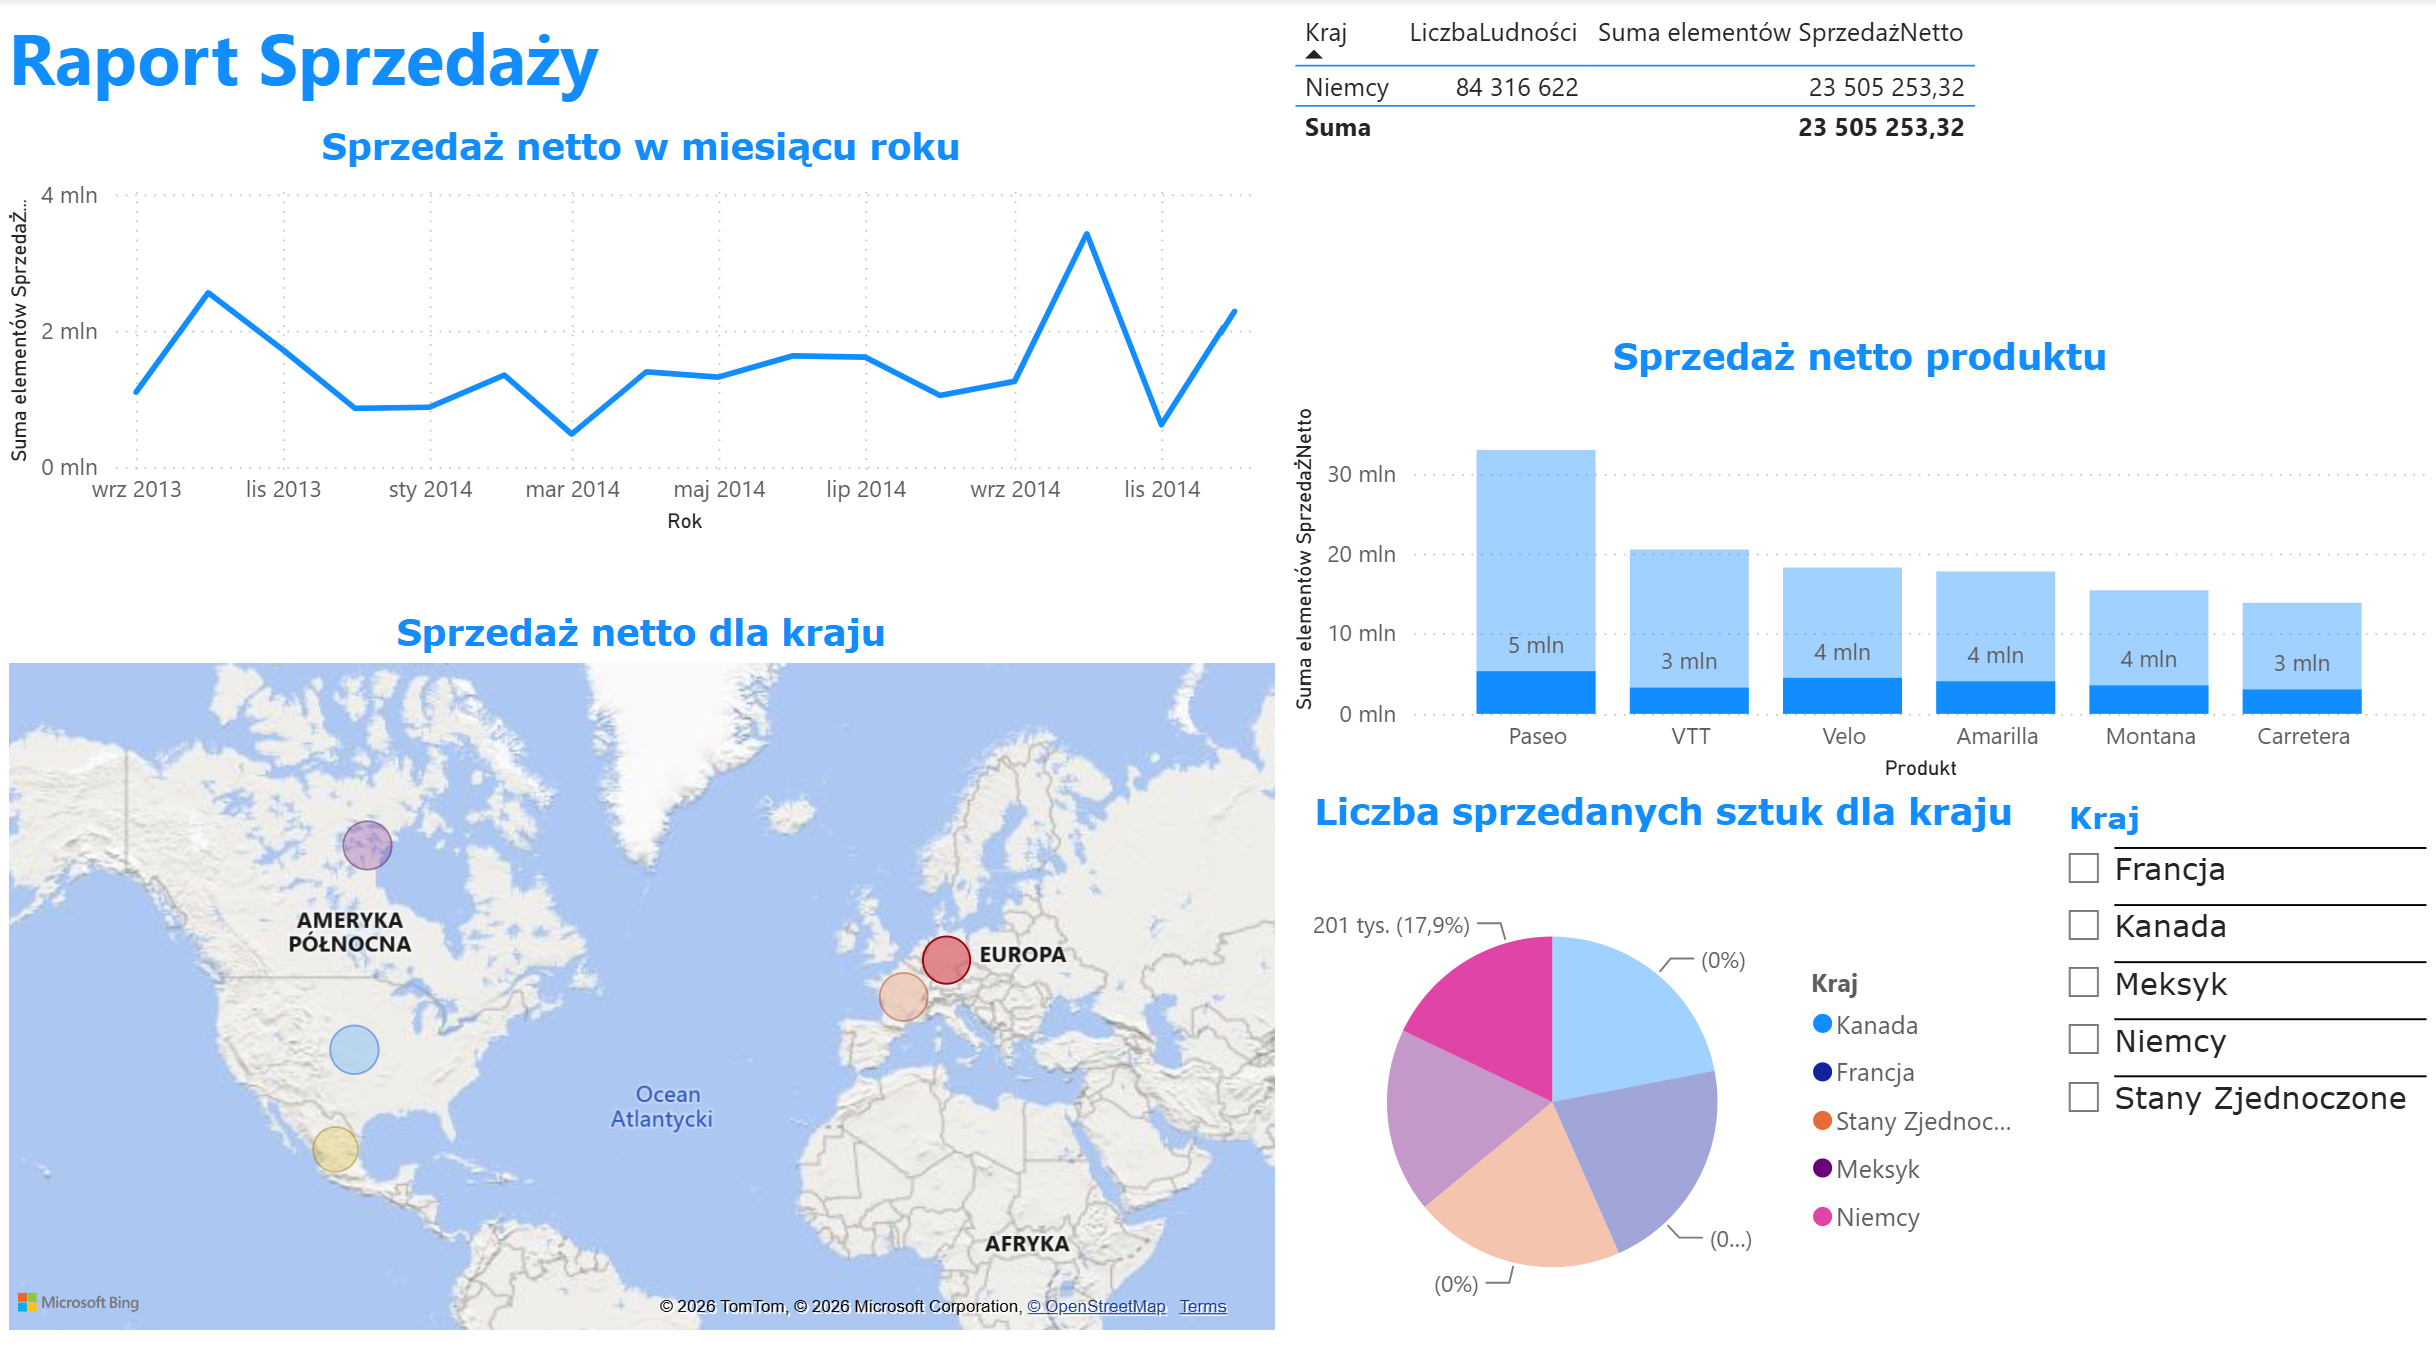

The page's visual inventory and layout, read from the dashboard file:
{"tool":"powerbi","page":{"name":"Strona 1","canvas":[1280,720],"ordinal":0},"visuals":[{"type":"textbox","box":[0,0,374.6,65.9],"z":0},{"type":"lineChart","title":"Sprzedaż netto w miesiącu roku","fields":{"Y":["Sum(sprzedaż.SprzedażNetto)"],"Category":["sprzedaż.Data.Odmiana.Hierarchia dat.Rok","sprzedaż.Data.Odmiana.Hierarchia dat.Kwartał","sprzedaż.Data.Odmiana.Hierarchia dat.Miesiąc","sprzedaż.Data.Odmiana.Hierarchia dat.Dzień"]},"box":[0,66.2,674.8,219.2],"z":1000},{"type":"map","title":"Sprzedaż netto dla kraju","fields":{"Category":["sprzedaż.Kraj"],"Size":["Sum(sprzedaż.SprzedażNetto)"]},"box":[0,321.7,674.8,383.2],"z":2000},{"type":"tableEx","fields":{"Values":["sprzedaż.Kraj","sprzedaż.LiczbaLudności","Sum(sprzedaż.SprzedażNetto)"]},"box":[674.8,1.6,529.8,175],"z":3000},{"type":"columnChart","title":"Sprzedaż netto produktu","fields":{"Category":["sprzedaż.Produkt"],"Y":["Sum(sprzedaż.SprzedażNetto)"]},"box":[674.8,176.6,605.5,238.1],"z":4000},{"type":"pieChart","title":"Liczba sprzedanych sztuk dla kraju","fields":{"Category":["sprzedaż.Kraj"],"Y":["Sum(sprzedaż.Sprzedane_sztuki)"]},"box":[674.8,414.7,398.9,305.9],"z":5000},{"type":"slicer","fields":{"Values":["sprzedaż.Kraj"]},"box":[1074,415,206,305],"z":6000}]}

Visuals, with their boxes in screenshot pixels (x1, y1, x2, y2), scaled from the page's 1280x720 canvas onto the 2436x1360 screenshot:
textbox: BBox(0, 0, 713, 124)
"Sprzedaż netto w miesiącu roku" lineChart: BBox(0, 125, 1284, 539)
"Sprzedaż netto dla kraju" map: BBox(0, 608, 1284, 1331)
tableEx - sprzedaż.Kraj x sprzedaż.LiczbaLudności: BBox(1284, 3, 2293, 334)
"Sprzedaż netto produktu" columnChart: BBox(1284, 334, 2435, 783)
"Liczba sprzedanych sztuk dla kraju" pieChart: BBox(1284, 783, 2043, 1359)
slicer - sprzedaż.Kraj: BBox(2044, 784, 2435, 1359)
